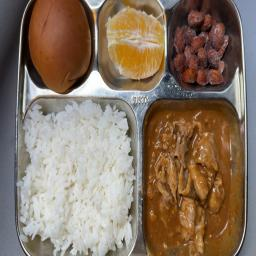100_beef: (147, 106, 235, 250)
100_bread: (23, 0, 96, 86)
100_nuts: (174, 7, 228, 85)
100_orange: (98, 4, 168, 85)
100_rice: (23, 102, 137, 249)
